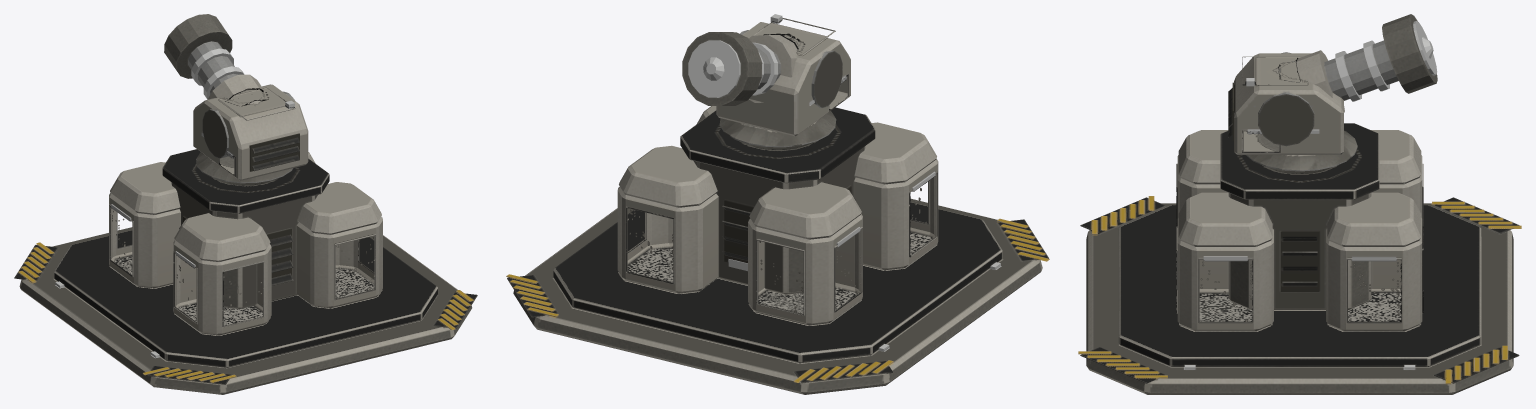
The model's file is ord_nano.fbx.
3 views of the same model, side by side, from view 1: azimuth 30°, elevation 25°; view 2: azimuth 150°, elevation 25°; view 3: azimuth 270°, elevation 25° (orthographic). The views are drawn at different scales.
Visible parts, largest first — view 1: base_bar, turret_bar, nano_bar, nano_glow_power_bar; view 2: base_bar, turret_bar, nano_bar, nano_glow_power_bar; view 3: base_bar, turret_bar, nano_bar, nano_glow_power_bar, base_glow_running_bar.
Part boxes in pixels (<box>): base_bar: <box>14,149,477,394</box>; turret_bar: <box>193,84,308,185</box>; nano_bar: <box>164,14,294,158</box>; nano_glow_power_bar: <box>191,48,244,99</box>; base_bar: <box>506,106,1049,394</box>; turret_bar: <box>716,17,850,149</box>; nano_bar: <box>682,30,842,107</box>; nano_glow_power_bar: <box>688,40,778,97</box>; base_bar: <box>1078,123,1521,394</box>; turret_bar: <box>1228,53,1357,173</box>; nano_bar: <box>1257,14,1437,146</box>; nano_glow_power_bar: <box>1335,21,1437,101</box>; base_glow_running_bar: <box>1184,256,1415,369</box>.
Bounding box in the file's own units: 1613 × 1357 × 1613.
2 materials, 2 textured.
